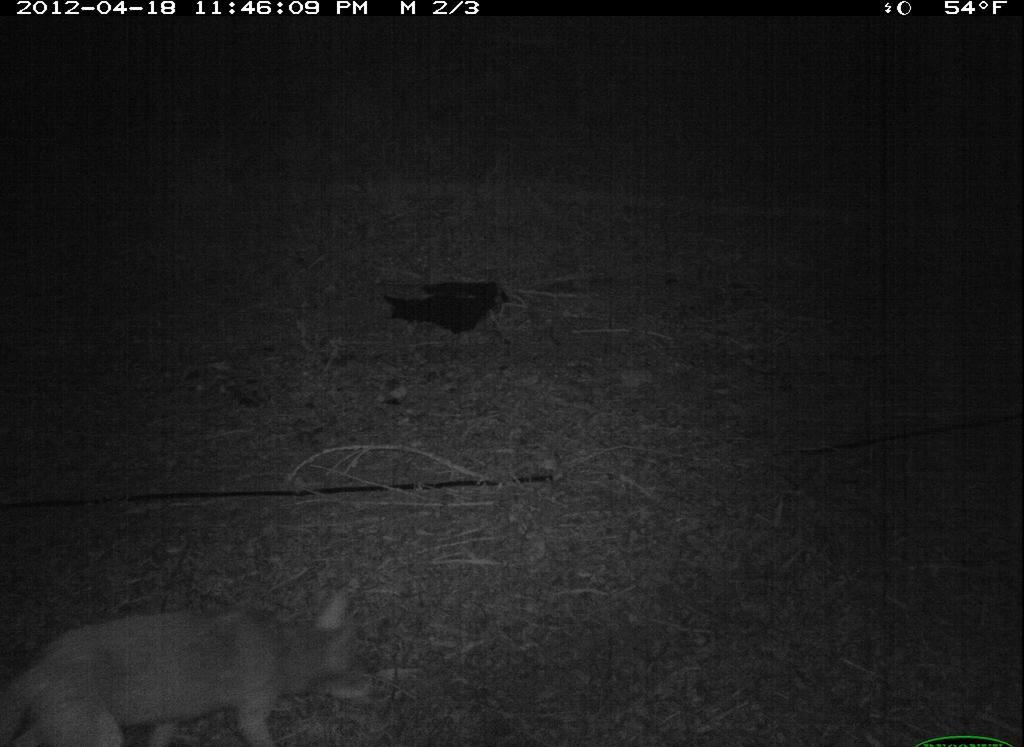coyote: (22, 582, 391, 737)
